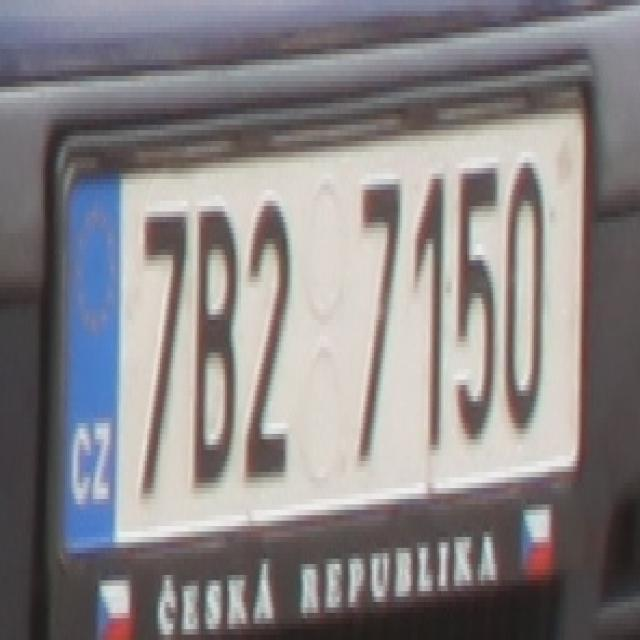0: (502, 157, 547, 423)
1: (408, 168, 444, 450)
2: (244, 201, 290, 472)
5: (452, 168, 495, 444)
7: (350, 174, 400, 462), (140, 212, 188, 499)
B: (192, 206, 238, 488)
